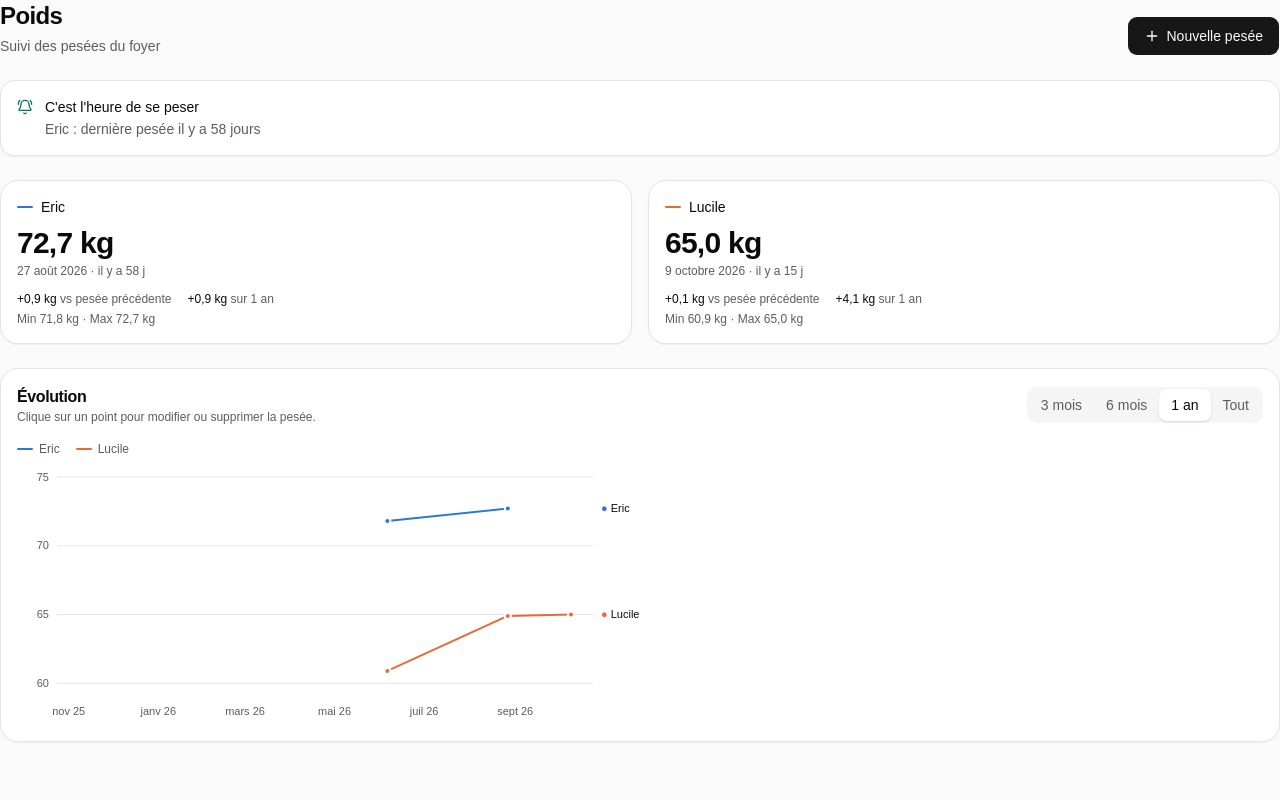
Test: WeightPage › ouvre la pesée en cliquant sur un point du graphique, pas à côté
Click the picture named "Évolution du poids" at (337, 595), box x1=17 y1=465 x2=657 y2=725
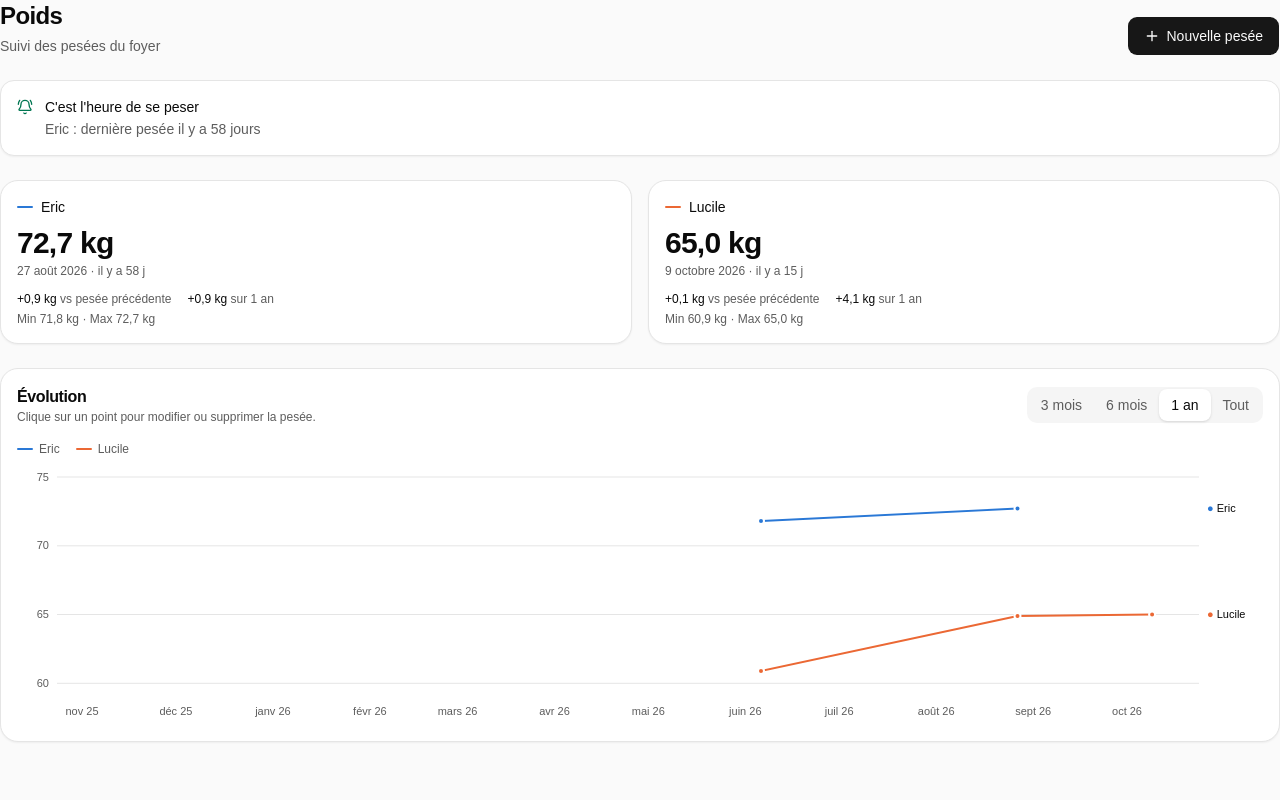
Click the picture named "Évolution du poids" at (640, 595), box x1=17 y1=465 x2=1263 y2=725
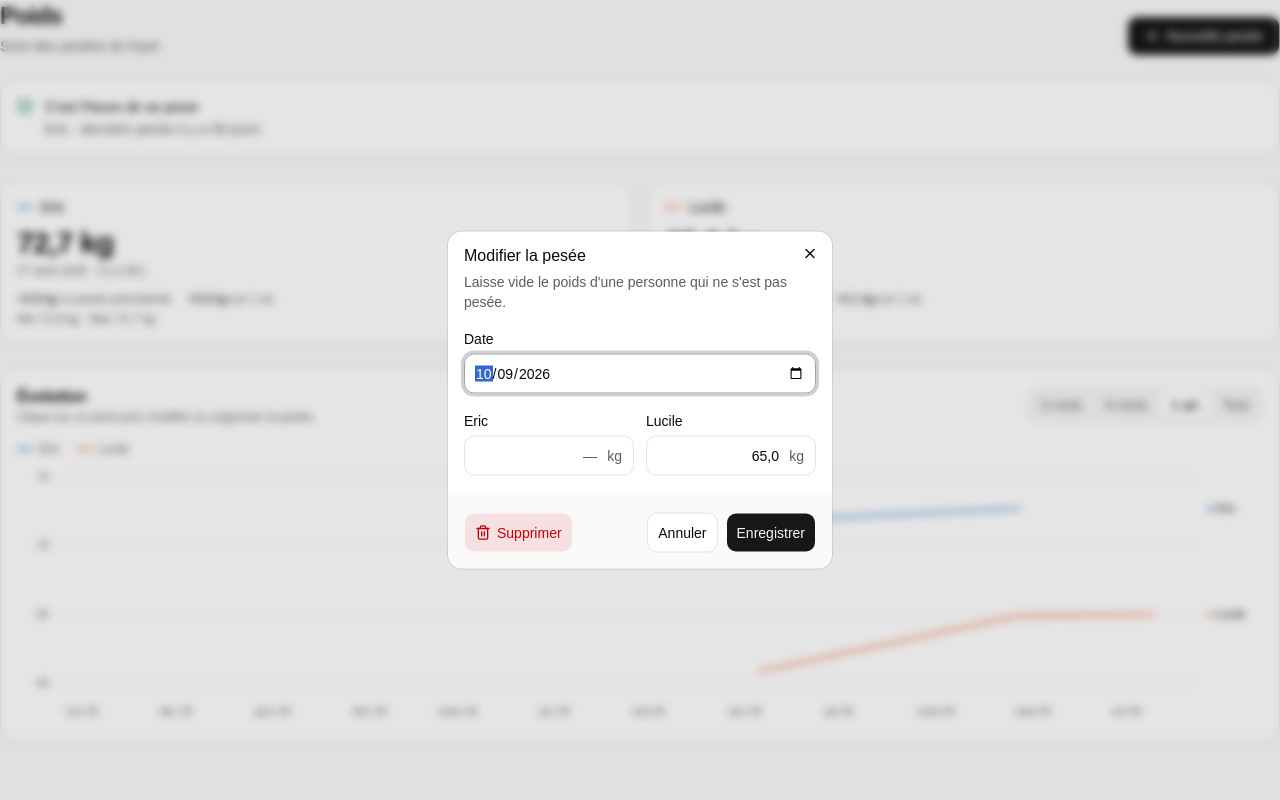
Expected: the date field labelled "Date" holds "2026-10-09", x1=464 y1=354 x2=816 y2=394
Expected: the field labelled "Lucile" holds "65,0", x1=646 y1=436 x2=816 y2=476
Expected: the field labelled "Eric" is empty, x1=464 y1=436 x2=634 y2=476
